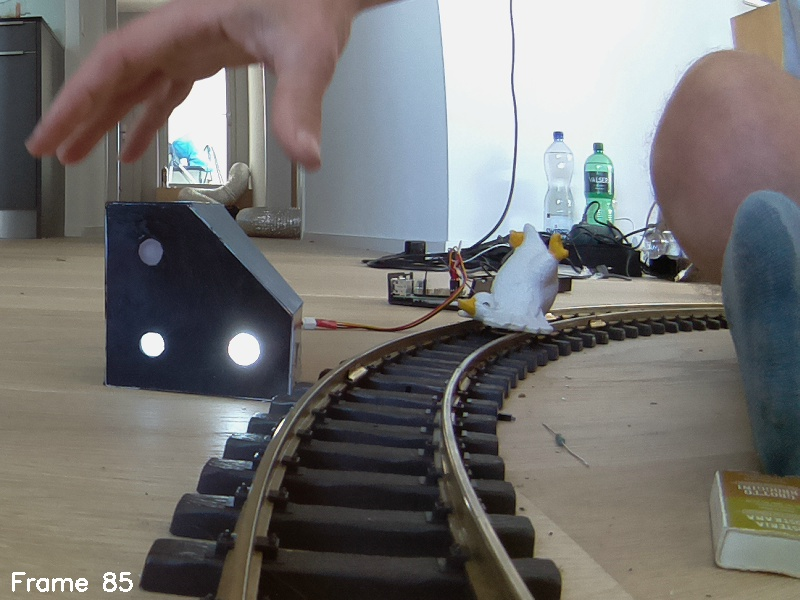Ente: (452, 224, 565, 342)
Halt: (104, 202, 290, 402)
